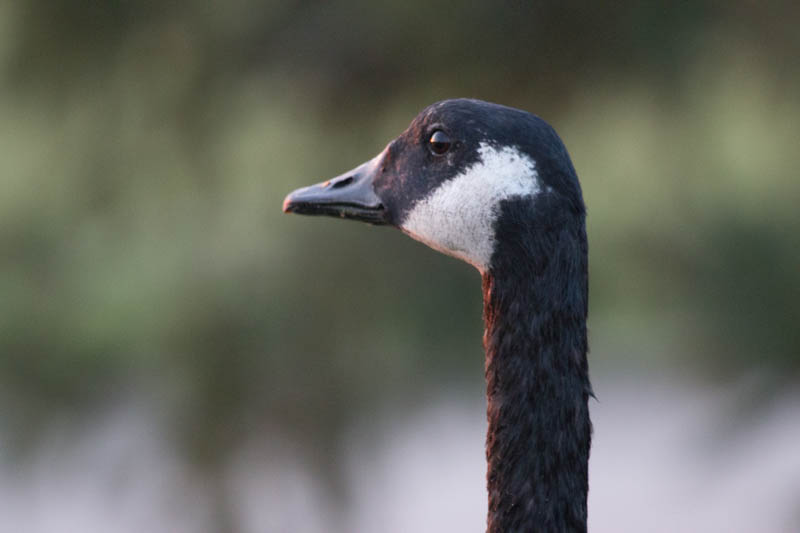goose-head: (280, 97, 588, 276)
